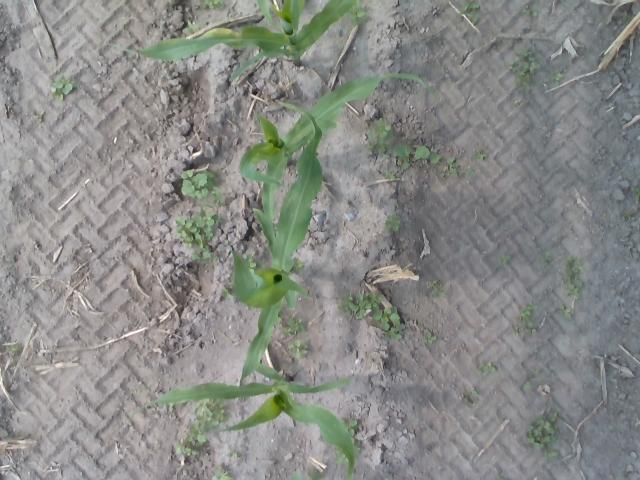Maize: (238, 73, 437, 226), (230, 100, 323, 382), (147, 364, 356, 480), (109, 0, 358, 82), (290, 471, 302, 480)
Weeds: (176, 212, 220, 245), (508, 50, 539, 94), (340, 292, 380, 318), (182, 170, 216, 198), (526, 420, 556, 450), (394, 144, 431, 168), (196, 400, 224, 430), (372, 306, 402, 331), (52, 76, 76, 101), (173, 443, 200, 458), (372, 118, 391, 139), (516, 302, 538, 319), (289, 341, 309, 359), (185, 428, 206, 444), (428, 280, 446, 298), (351, 4, 369, 22), (442, 158, 459, 177), (286, 317, 304, 334), (515, 322, 533, 338), (365, 142, 389, 154), (567, 256, 582, 274), (181, 21, 200, 34), (386, 214, 400, 231), (203, 0, 225, 10), (190, 251, 212, 260), (566, 284, 581, 297), (215, 469, 232, 480), (480, 362, 494, 375), (464, 1, 479, 13), (559, 306, 572, 319), (422, 332, 436, 344), (380, 169, 395, 180), (474, 148, 486, 161), (428, 152, 441, 164), (384, 332, 402, 340), (212, 186, 222, 200), (294, 257, 304, 271), (222, 288, 232, 300), (10, 346, 22, 356), (543, 450, 558, 458), (548, 412, 558, 422), (542, 252, 551, 263), (525, 9, 536, 18), (249, 255, 257, 267), (501, 255, 511, 264), (465, 168, 474, 178), (36, 110, 44, 121), (633, 188, 640, 200), (555, 73, 564, 82), (522, 382, 532, 390), (564, 277, 572, 284), (574, 280, 583, 286), (470, 390, 478, 396)
